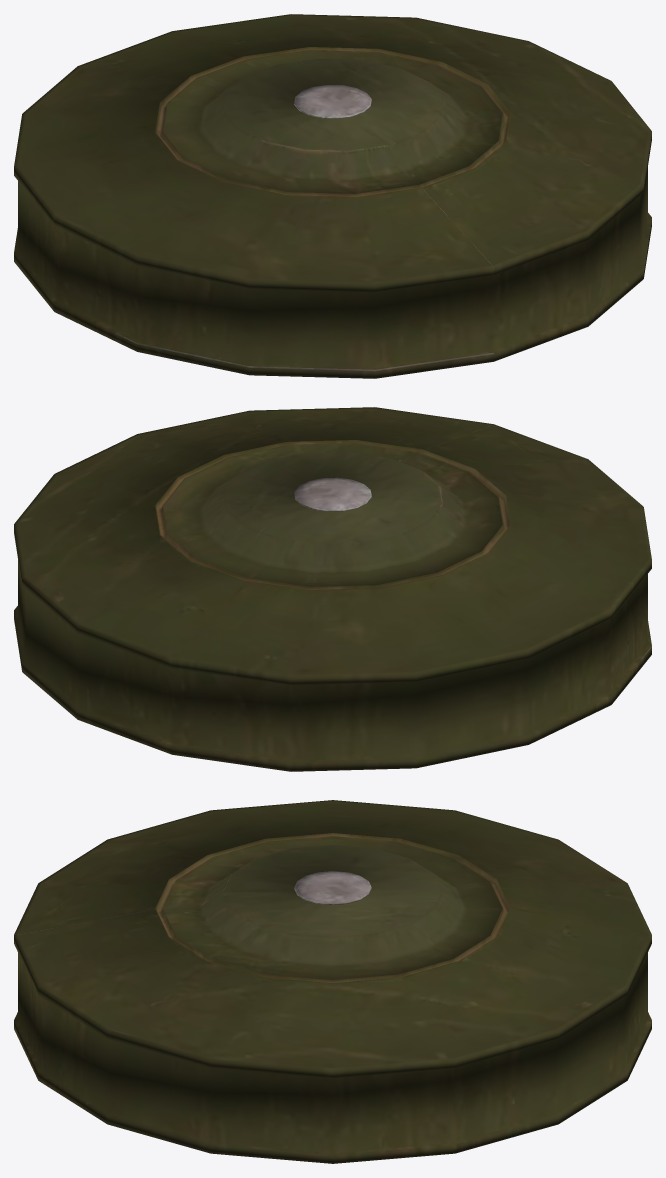
Rendered from AT_MINE.glb.
The picture shows the model from 3 angles, top to bottom: view 1: azimuth 30°, elevation 25°; view 2: azimuth 150°, elevation 25°; view 3: azimuth 270°, elevation 25°; orthographic projection.
Visible parts, largest first — view 1: AT_MINE; view 2: AT_MINE; view 3: AT_MINE.
Part boxes in pixels (box(x1,y1,x2,y2)): AT_MINE: box(14, 14, 651, 378); AT_MINE: box(14, 407, 651, 771); AT_MINE: box(14, 800, 651, 1163).
Size of the model in its own units: 0.3207 by 0.0797 by 0.3207.
1 material, 1 textured.
